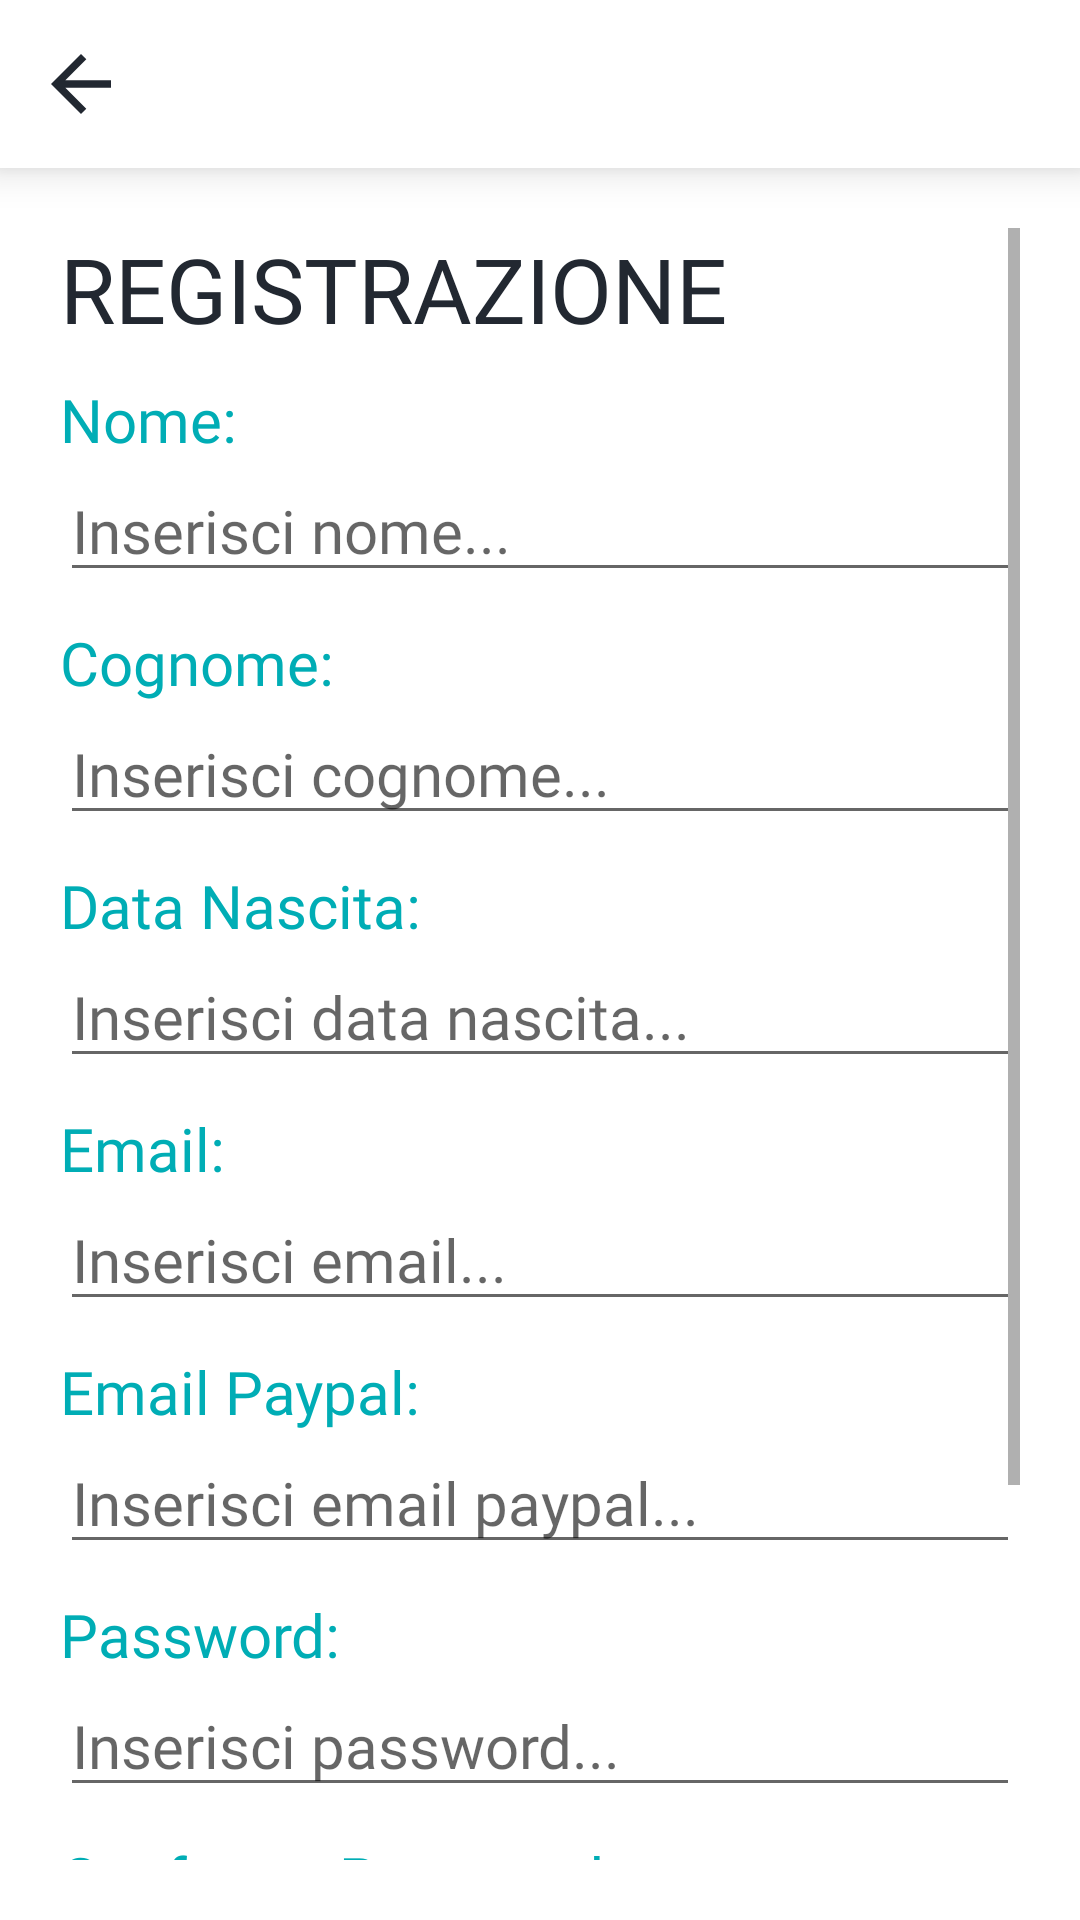

Named icons in this screenshot (1080 x 1920) and their bounding boxes, (x1, y1, x2, y2):
arrow back: (51, 54, 111, 114)
